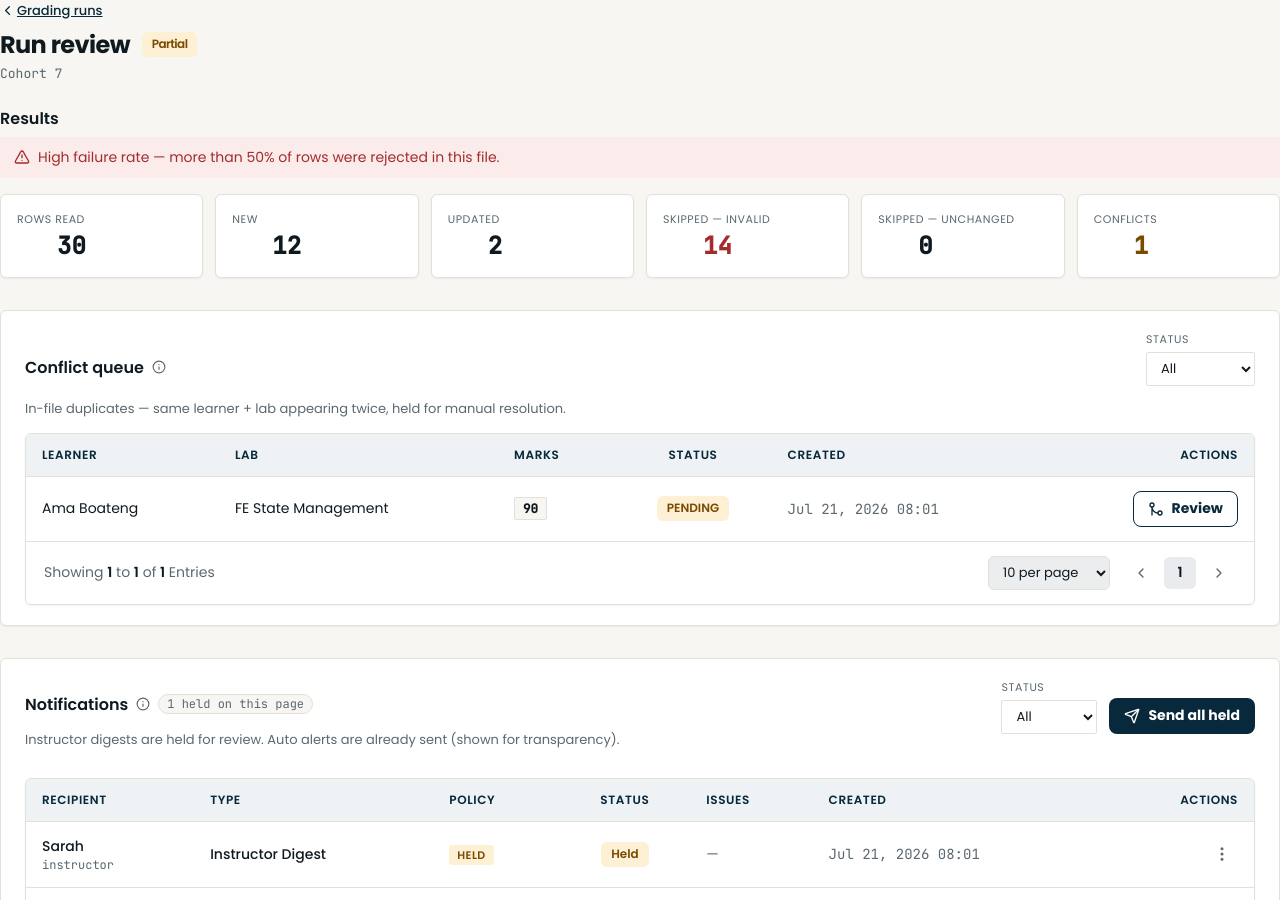
Test: RunReviewView › sends a single held notification
Click the button named "Row actions" at (1222, 854), box left=1206, top=838, right=1238, bottom=870
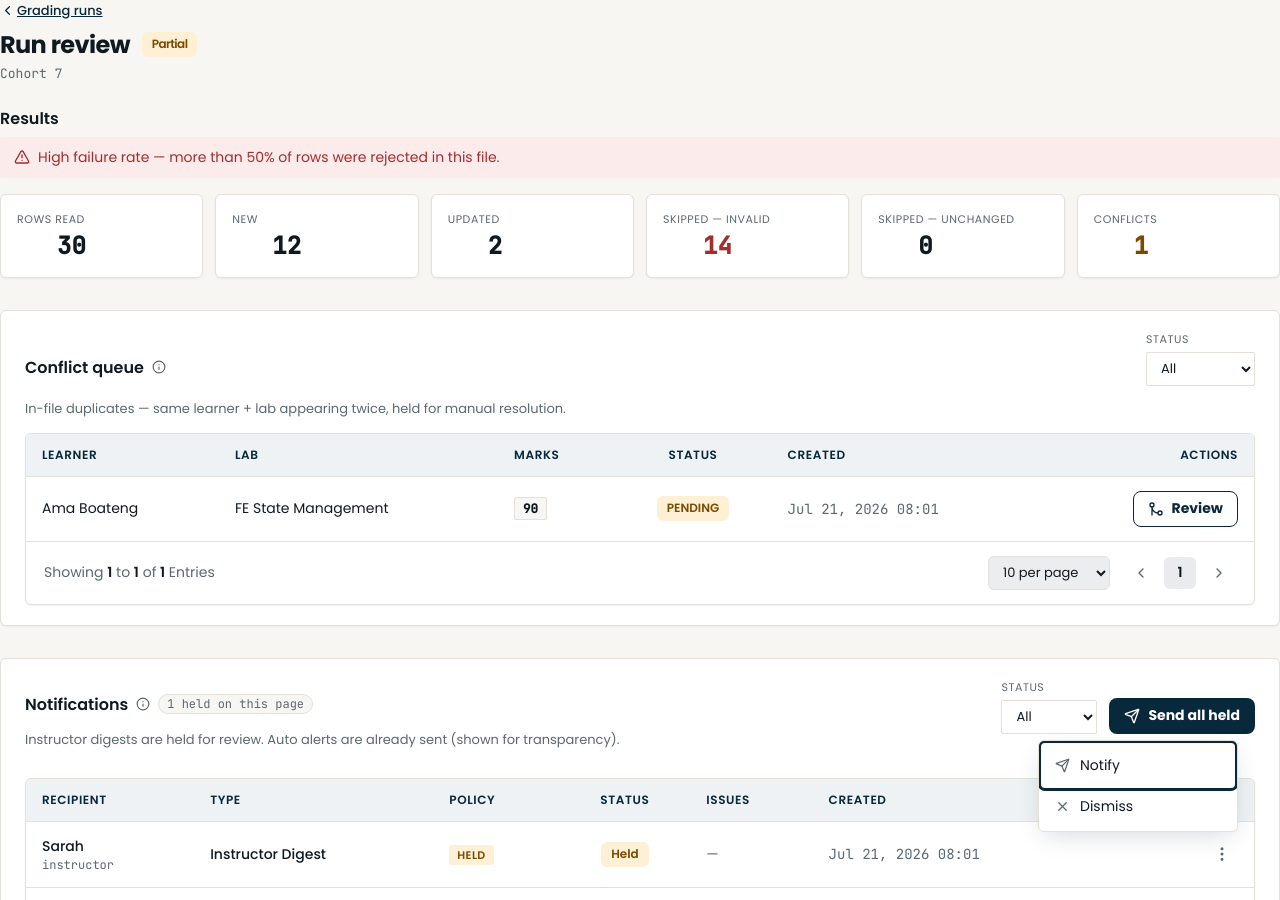
Click the button "Notify" at (1138, 766), box left=1043, top=745, right=1233, bottom=786
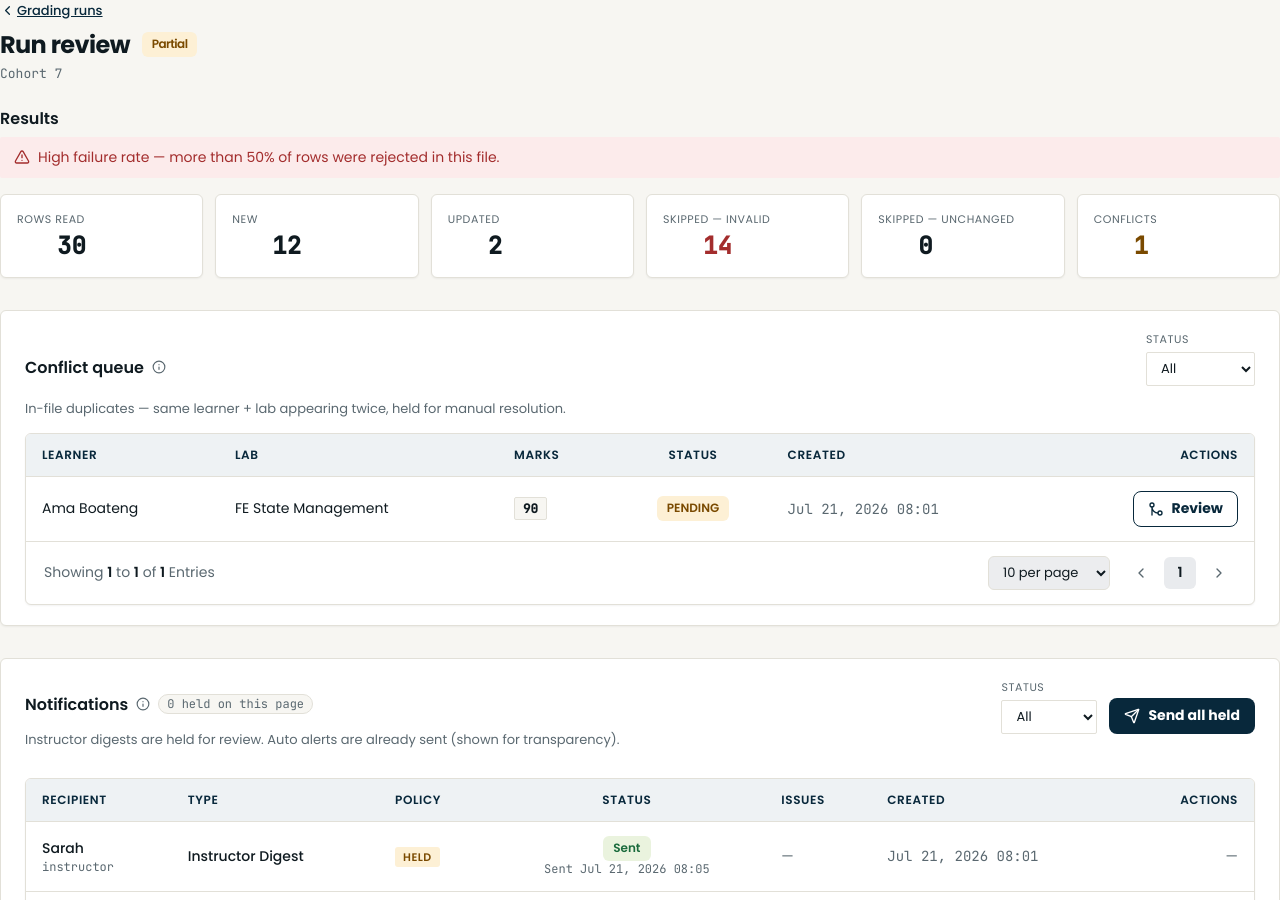
Expected: the text "sent" is shown, left=25, top=730, right=619, bottom=749
Result: the text "Sent Jul 21, 2026 08:05" is shown at left=544, top=861, right=710, bottom=877
